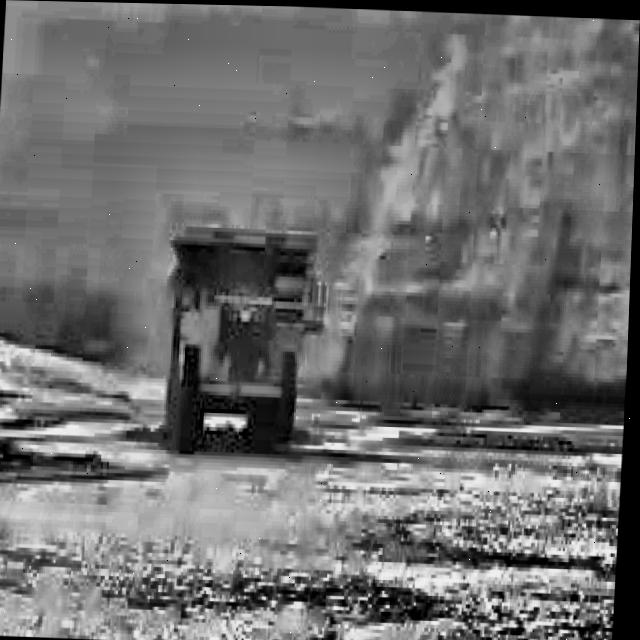dump_truck: (151, 224, 326, 449)
